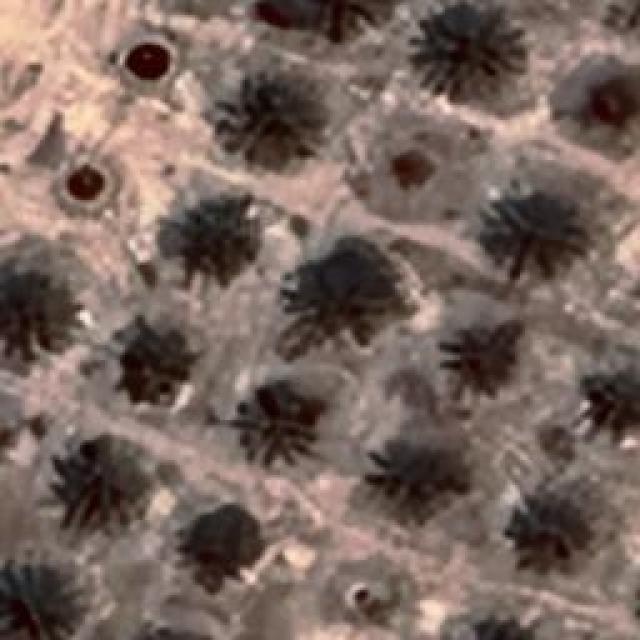PalmTree: (208, 60, 328, 170), (286, 239, 399, 349), (405, 0, 520, 100), (50, 430, 155, 535), (162, 198, 260, 290), (490, 188, 588, 280), (0, 256, 78, 369), (230, 375, 320, 470), (374, 435, 458, 530), (510, 480, 590, 575), (178, 508, 262, 592), (119, 312, 189, 406), (452, 316, 522, 406), (0, 560, 80, 638), (260, 0, 399, 40), (590, 360, 640, 440), (434, 604, 536, 640), (598, 0, 640, 45)
